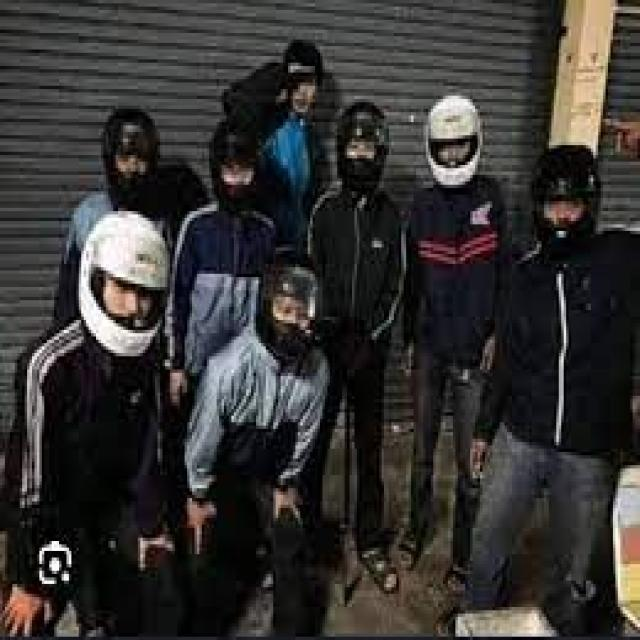helmet: (74, 206, 174, 355), (256, 250, 332, 360), (534, 138, 604, 253), (424, 94, 491, 194), (97, 106, 165, 199), (336, 99, 390, 189), (212, 122, 267, 205), (284, 40, 327, 109)
